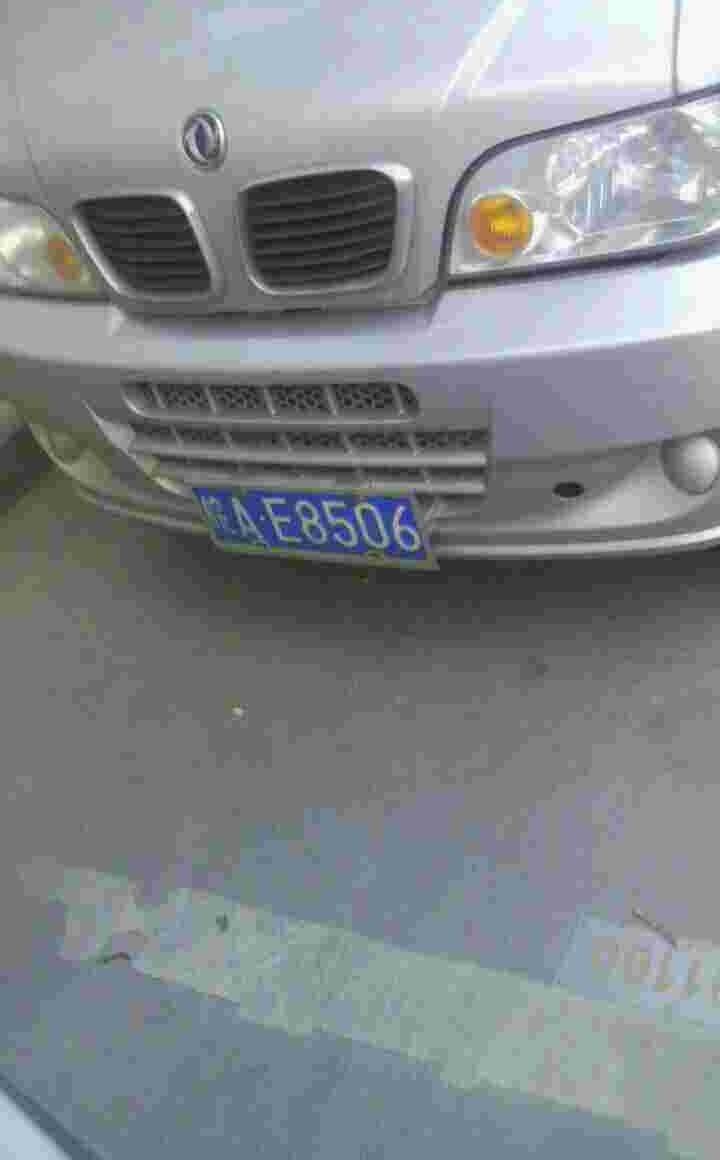plate: (178, 477, 444, 566)
